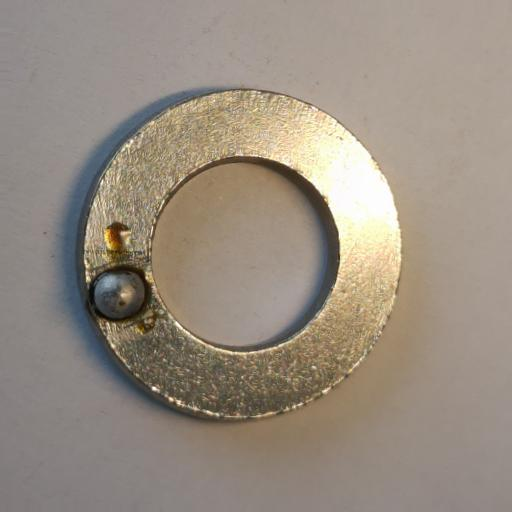excess_material: (89, 264, 148, 322)
